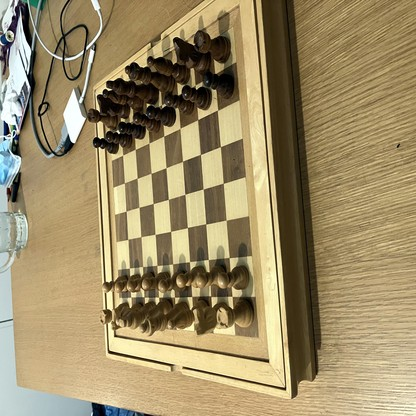bishop_black: (148, 56, 190, 84), (103, 89, 142, 108)
bishop_white: (116, 303, 141, 325), (167, 310, 193, 331)
king_black: (106, 80, 158, 104)
king_white: (118, 302, 154, 329)
knight_black: (174, 37, 211, 70), (97, 94, 129, 120)
knight_white: (194, 302, 228, 335), (112, 300, 144, 329)
pawn_black: (203, 72, 234, 98), (182, 87, 212, 111), (146, 106, 175, 127), (132, 112, 161, 132), (164, 94, 194, 113), (118, 122, 146, 139), (93, 137, 119, 155), (105, 132, 131, 147)
pawn_white: (218, 267, 249, 291), (176, 266, 204, 289), (158, 271, 185, 292), (197, 267, 225, 287), (115, 274, 141, 294), (142, 273, 171, 289), (128, 273, 153, 291), (103, 276, 126, 295)
queen_black: (124, 62, 174, 95)
queen_white: (140, 302, 187, 335)
rock_black: (195, 30, 230, 64), (88, 109, 120, 130)
rock_white: (215, 297, 253, 328), (99, 309, 112, 324)
